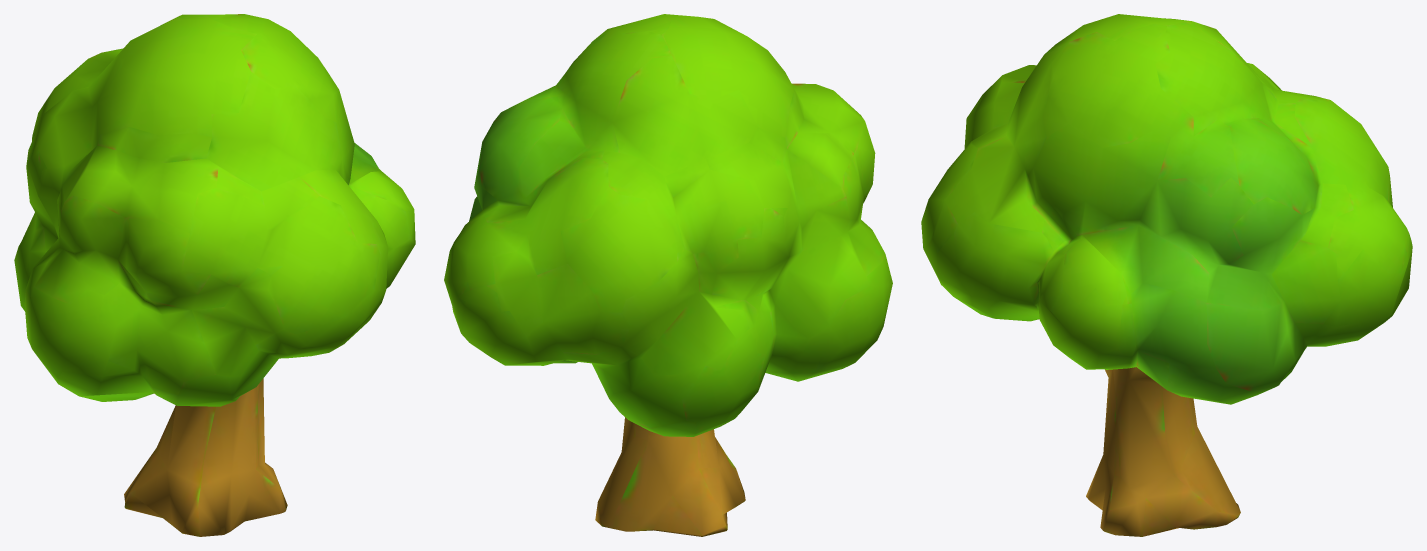
File: tree.glb
The picture shows the model from 3 angles, left to right: view 1: azimuth 30°, elevation 25°; view 2: azimuth 150°, elevation 25°; view 3: azimuth 270°, elevation 25°; orthographic projection.
Visible parts, largest first — view 1: tripo_node_f13c72c0; view 2: tripo_node_f13c72c0; view 3: tripo_node_f13c72c0.
Boxes of the visible parts, box(x1,y1,x2,y2) form: tripo_node_f13c72c0: box(14, 14, 415, 536); tripo_node_f13c72c0: box(444, 14, 892, 536); tripo_node_f13c72c0: box(921, 14, 1412, 536).
Bounding box in the file's own units: 80.29 × 99.81 × 91.23.
1 material, 1 textured.
